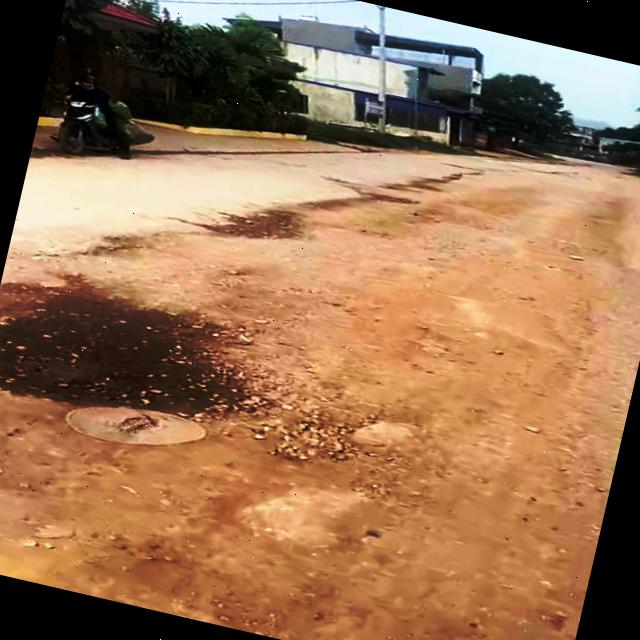pothole: (205, 227, 614, 524), (0, 256, 267, 449)
